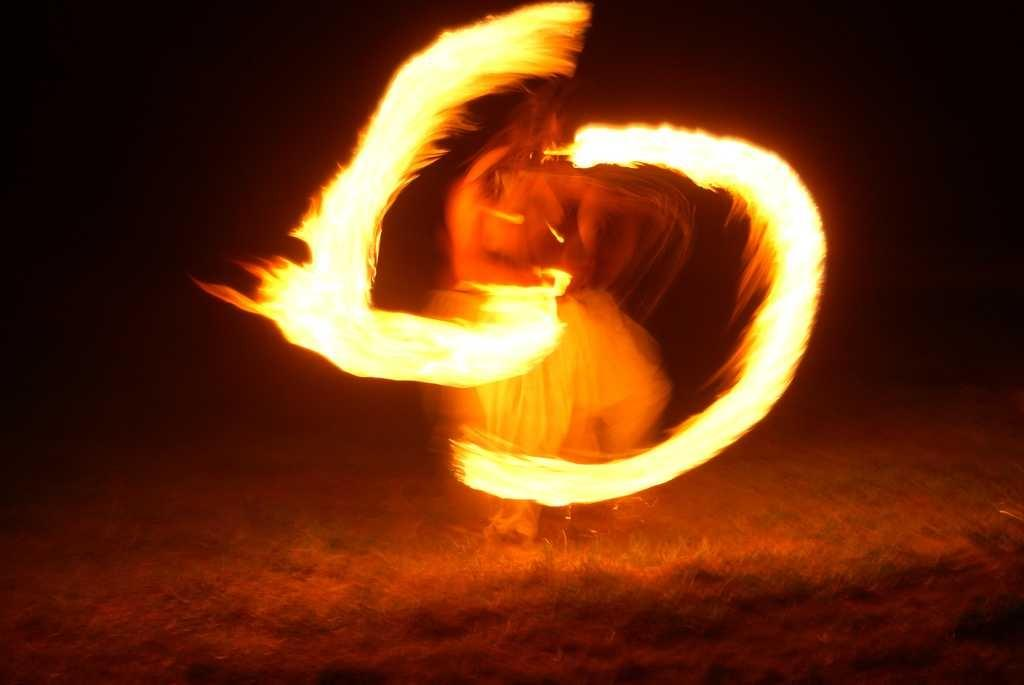fire: (375, 313, 532, 377), (310, 217, 367, 348), (773, 195, 813, 348), (587, 128, 703, 163), (477, 458, 583, 495)
